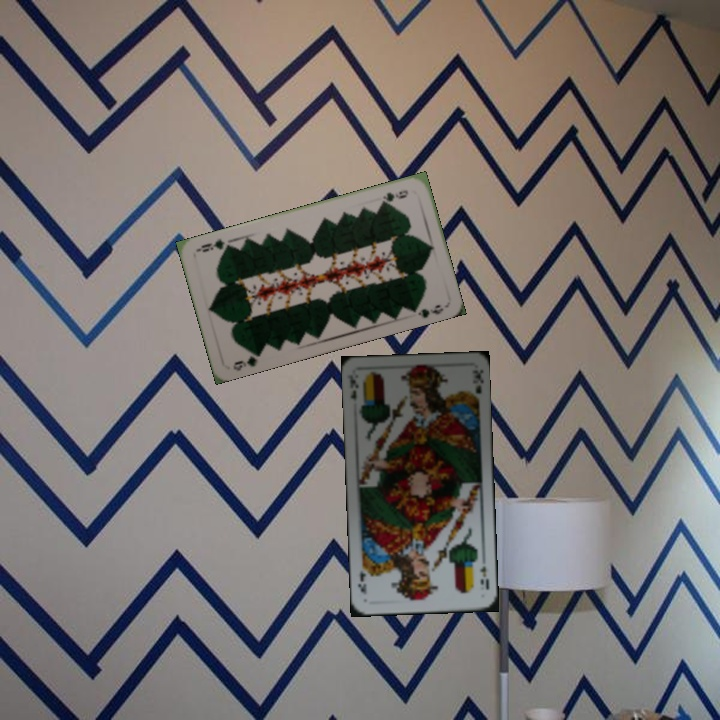EK: (344, 371, 361, 404), (476, 562, 492, 592)
G9: (229, 347, 264, 373), (377, 186, 411, 207)
